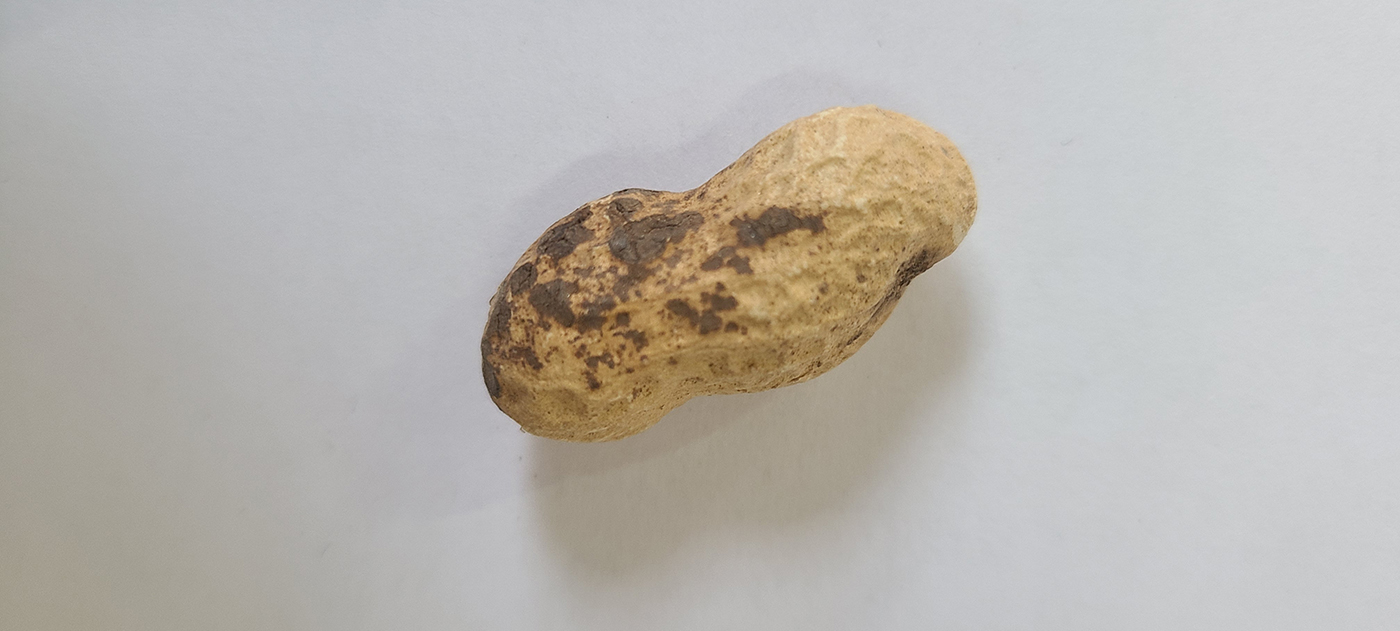h: (474, 107, 977, 438)
